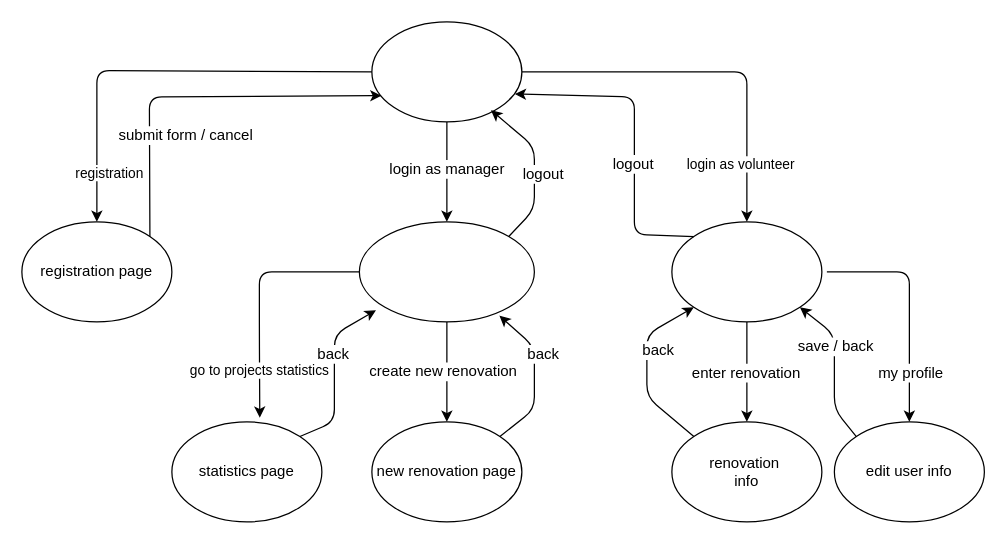
Image size: 1006x544. Some labels were removed from this diagram. Here are the shapes that lost their labels. From the top down, the centre of each, then its label:
the point at 446,71: home page
the point at 446,271: manager dashboard
the point at 746,271: volunteer dashbord
